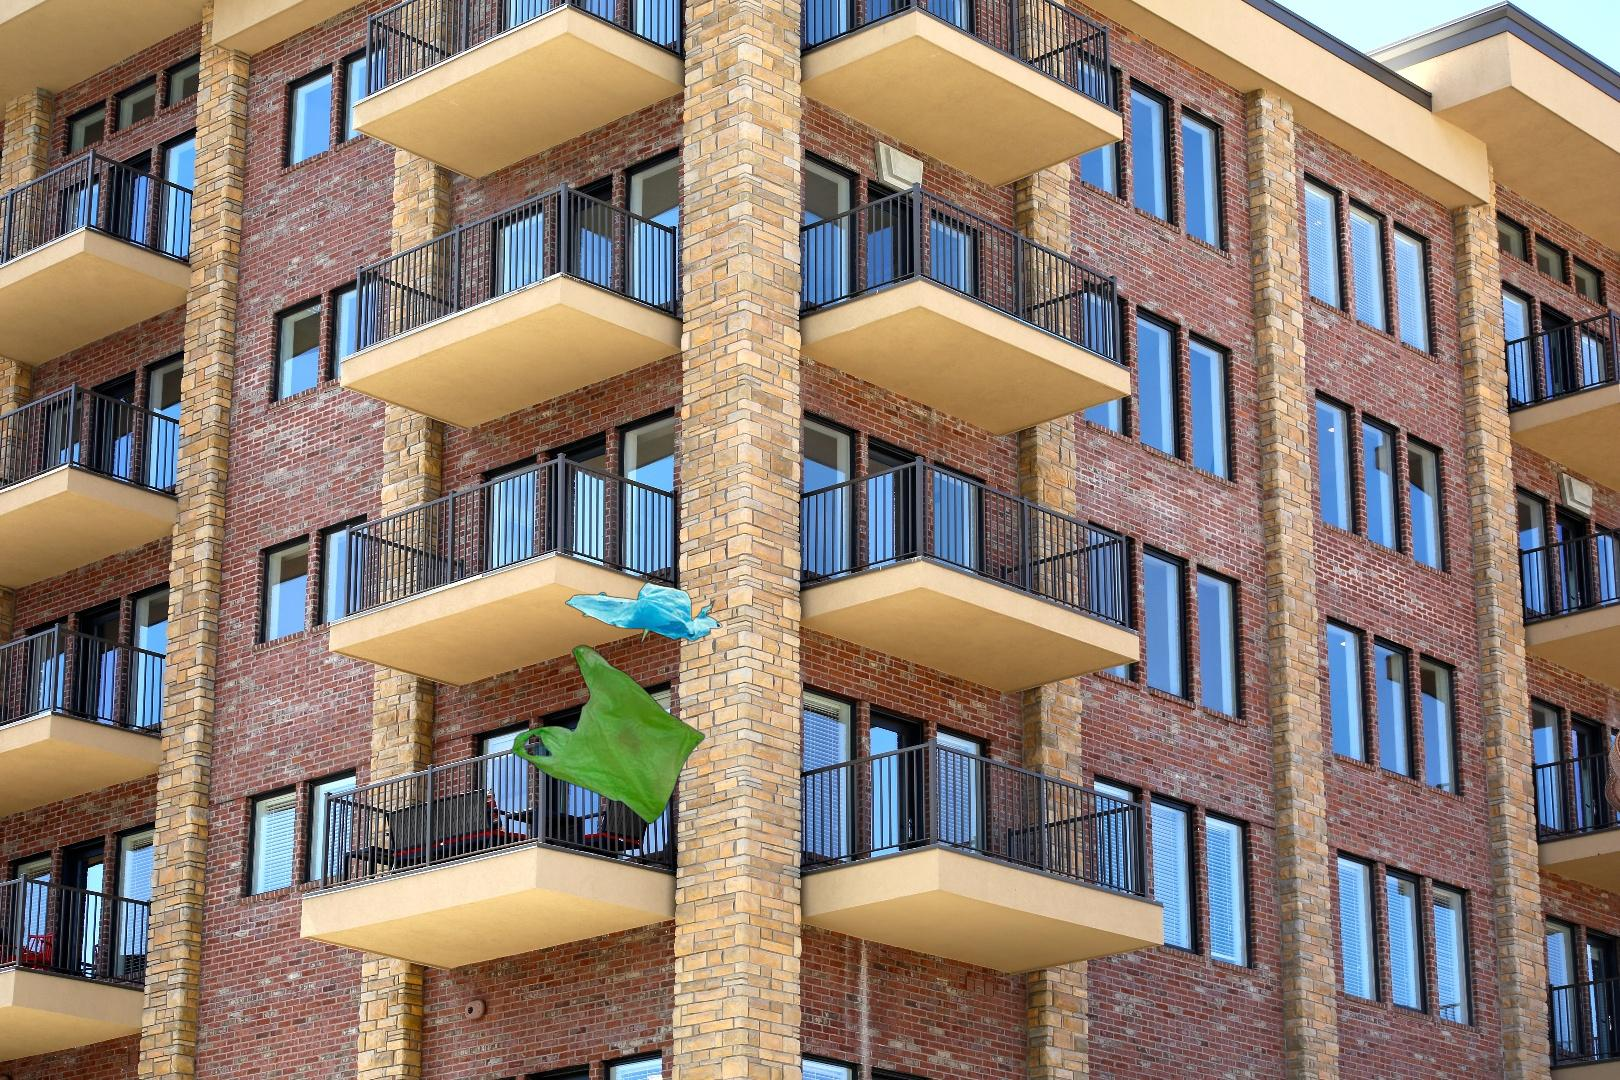plastic-bag: (507, 580, 724, 827)
shoes: (1602, 671, 1620, 876)
